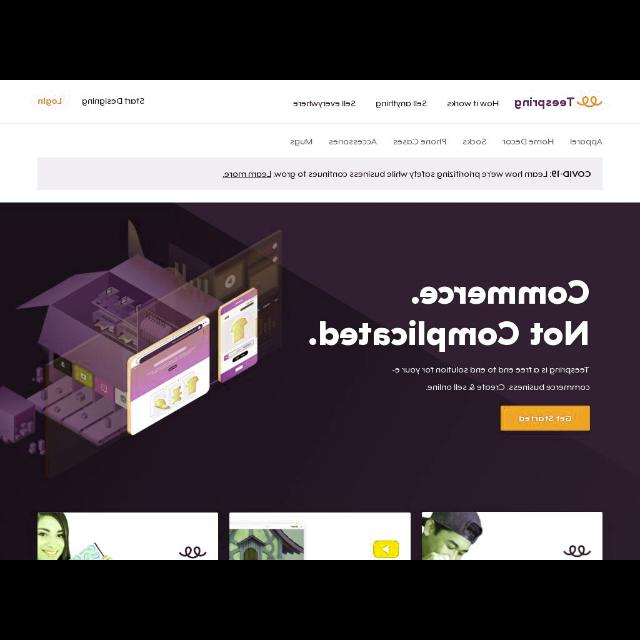backgroundimage: (1, 203, 639, 557)
image: (229, 511, 413, 559), (420, 511, 602, 559), (37, 512, 219, 560), (576, 95, 604, 107)
multitab: (288, 135, 604, 149)
panel: (37, 156, 603, 190)
text: (307, 278, 591, 354), (392, 366, 590, 392), (220, 168, 592, 180), (512, 97, 576, 109), (292, 100, 356, 110), (393, 136, 447, 146), (375, 99, 427, 109), (502, 136, 554, 146), (83, 98, 145, 106), (516, 415, 574, 423), (446, 100, 499, 108), (329, 138, 377, 146), (568, 138, 604, 148), (38, 97, 62, 107), (462, 138, 488, 146), (290, 140, 312, 146)
textbutton: (499, 406, 591, 432)
